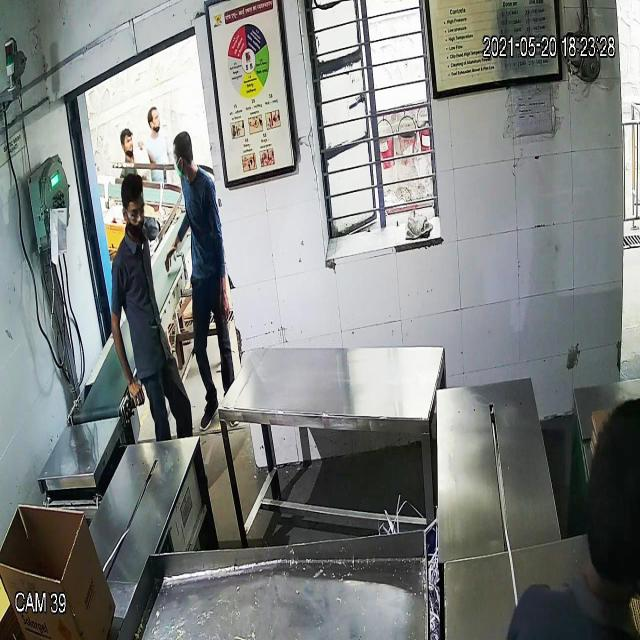glasses: (119, 198, 149, 225)
